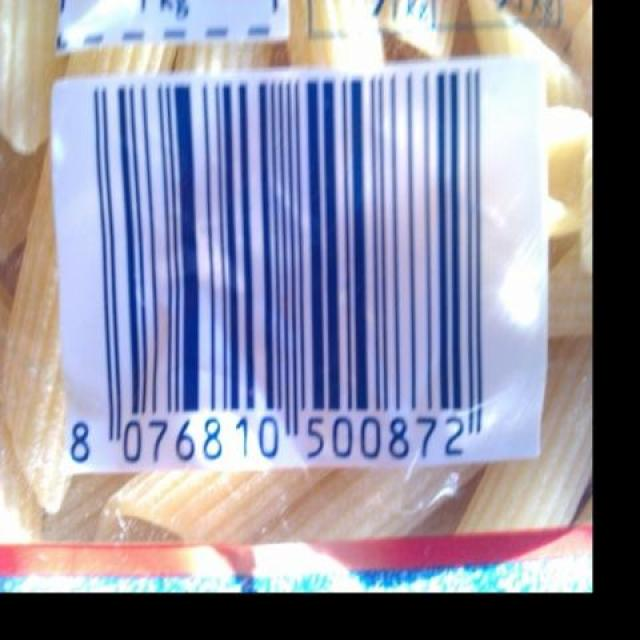Barcode: (48, 58, 529, 470)
